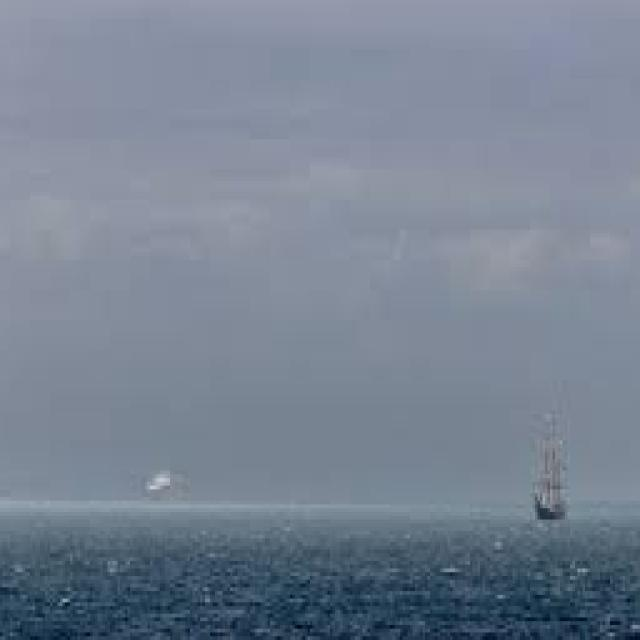fishing boat: (528, 415, 576, 525)
